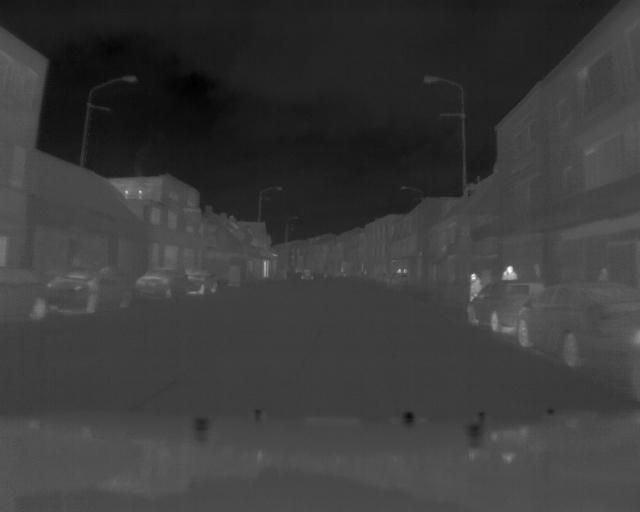car: (514, 276, 640, 365), (46, 263, 138, 313), (466, 281, 518, 333), (133, 264, 191, 301)
person: (464, 269, 486, 304)
